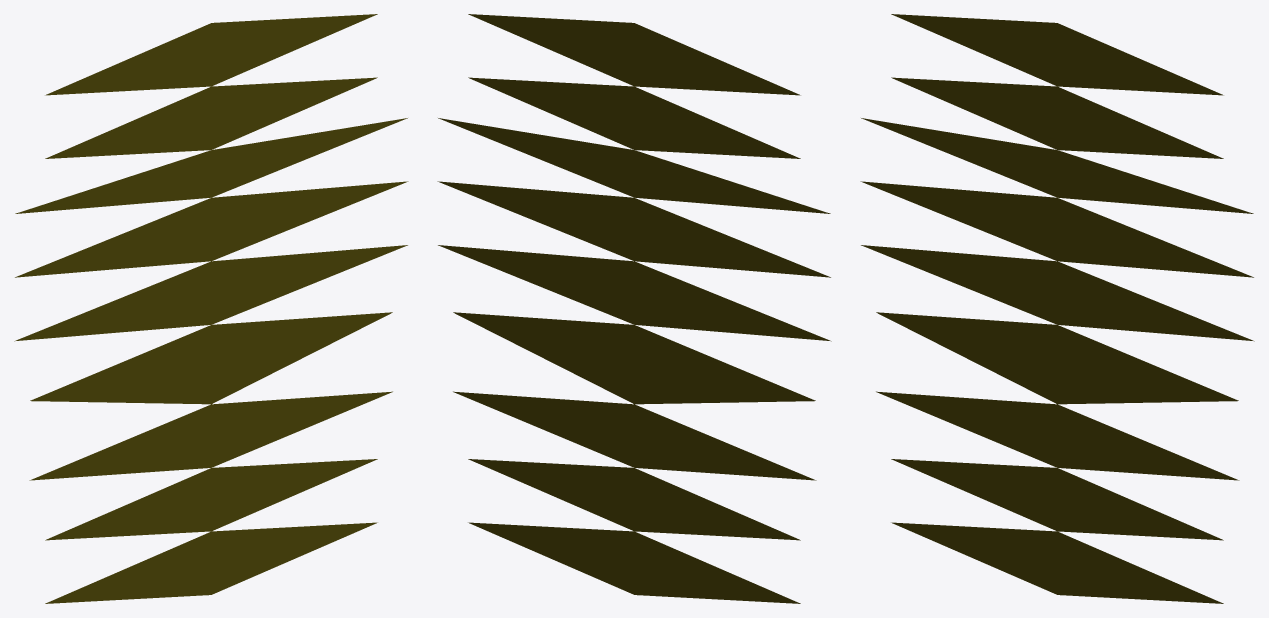
Rendered from player_male_chest_23_1.obj.
3 views of the same model, side by side, from view 1: azimuth 30°, elevation 25°; view 2: azimuth 150°, elevation 25°; view 3: azimuth 330°, elevation 25° (orthographic).
Bounding box in the file's own units: 0.2031 × 0.2812 × 0.
